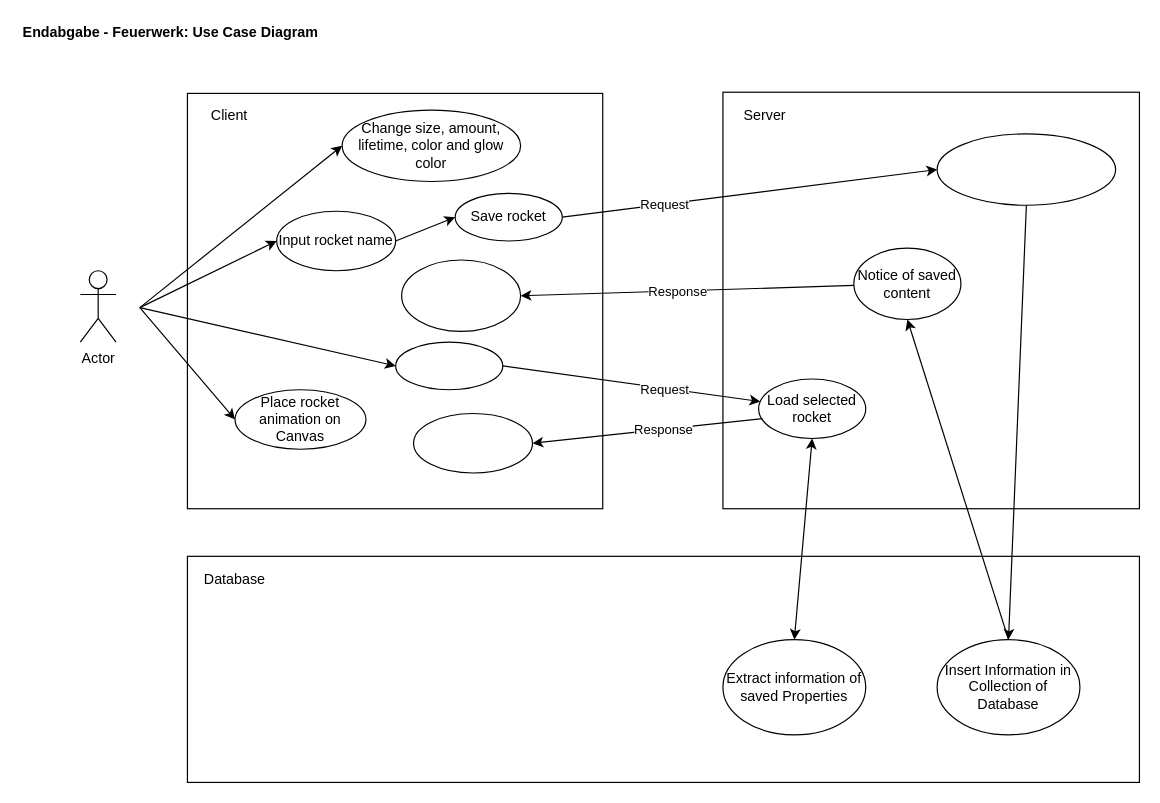
Image size: 1160x803. Some labels were removed from this diagram. Here are the shapes that lost their labels. From the top down, the box of each, then its label:
(936, 133, 1116, 205): Receive Information of current Object properties
(400, 259, 521, 331): Notice for Client
(394, 341, 503, 390): Load rocket
(412, 412, 533, 473): Change input values
